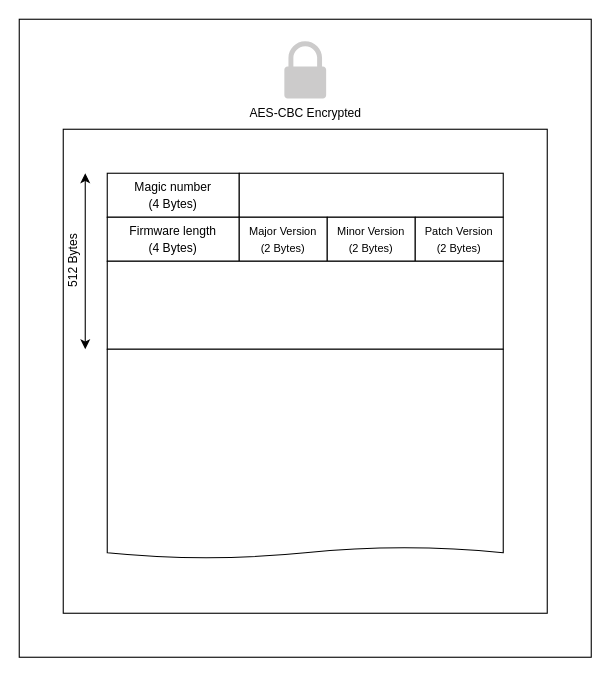
Some shapes in this 611 by 677 pixel diagram are drawn without their labels. The box of each missing label's shape, as (x1, y1, x2, y2) in pixels:
Data: (106, 348, 503, 558)
Hash (32 Bytes): (238, 172, 503, 217)
Padding (466 Bytes): (106, 260, 503, 349)
